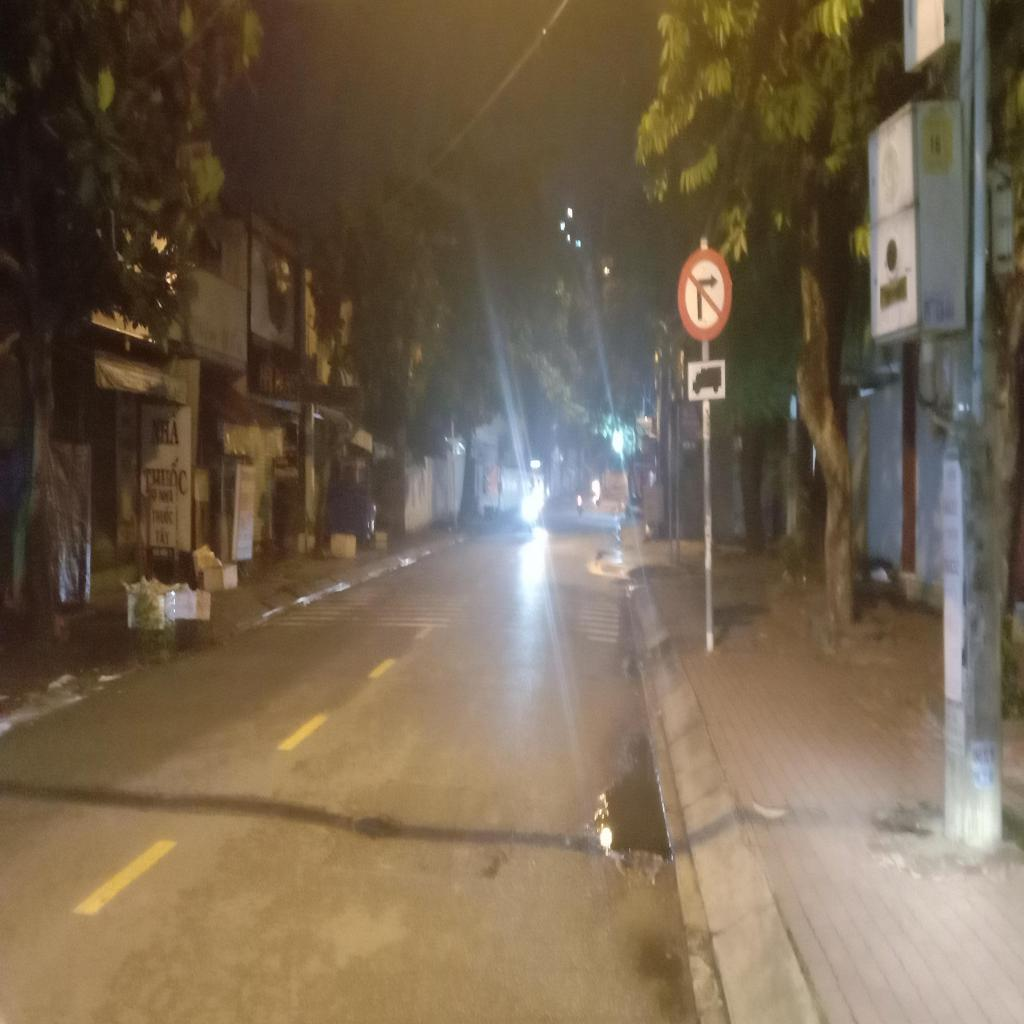cam_re_phai: (678, 246, 732, 342)
khac: (687, 360, 726, 400)
